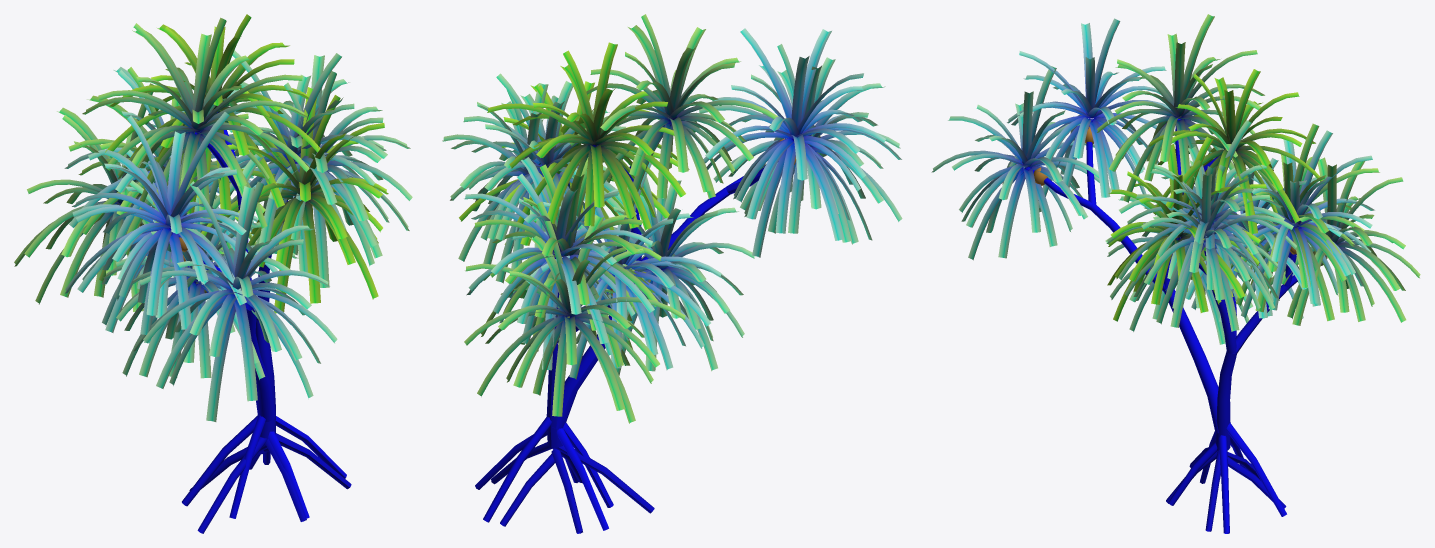
The model's file is pandanus.glb.
3 views of the same model, side by side, from view 1: azimuth 30°, elevation 25°; view 2: azimuth 150°, elevation 25°; view 3: azimuth 270°, elevation 25° (orthographic). The views are drawn at different scales.
Visible parts, largest first — view 1: pandanus1_lod0, pandanus0_lod0; view 2: pandanus0_lod0, pandanus1_lod0; view 3: pandanus0_lod0, pandanus1_lod0.
Boxes of the visible parts, x1,y1,x2,y2 form: pandanus1_lod0: (65,14,346,518); pandanus0_lod0: (14,50,412,533); pandanus0_lod0: (442,73,754,533); pandanus1_lod0: (475,14,902,530); pandanus0_lod0: (1105,120,1420,531); pandanus1_lod0: (931,14,1323,533).
Size of what is drawn, in the model's own units: 5.29 by 6.85 by 7.02.
